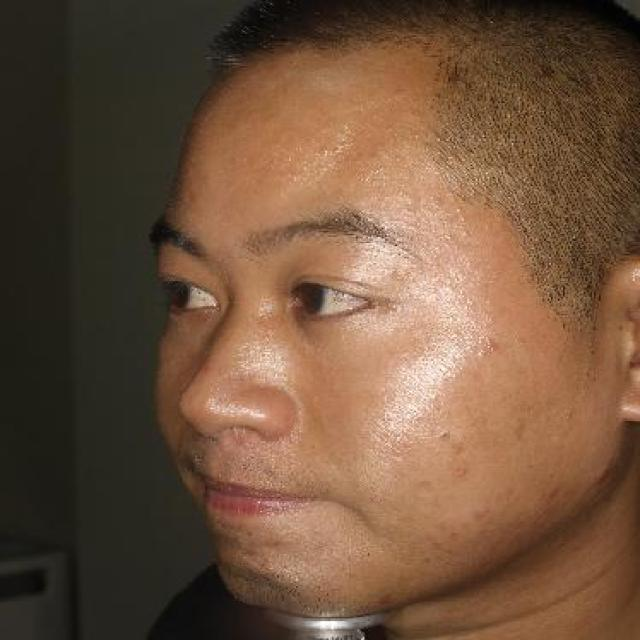blackheads: (478, 326, 507, 363), (436, 423, 452, 448)
dark spot: (539, 482, 566, 508), (466, 502, 494, 526), (452, 465, 476, 480)
whiteheads: (592, 463, 618, 482), (320, 138, 334, 162), (433, 190, 447, 208), (442, 229, 455, 246), (458, 214, 471, 223)
